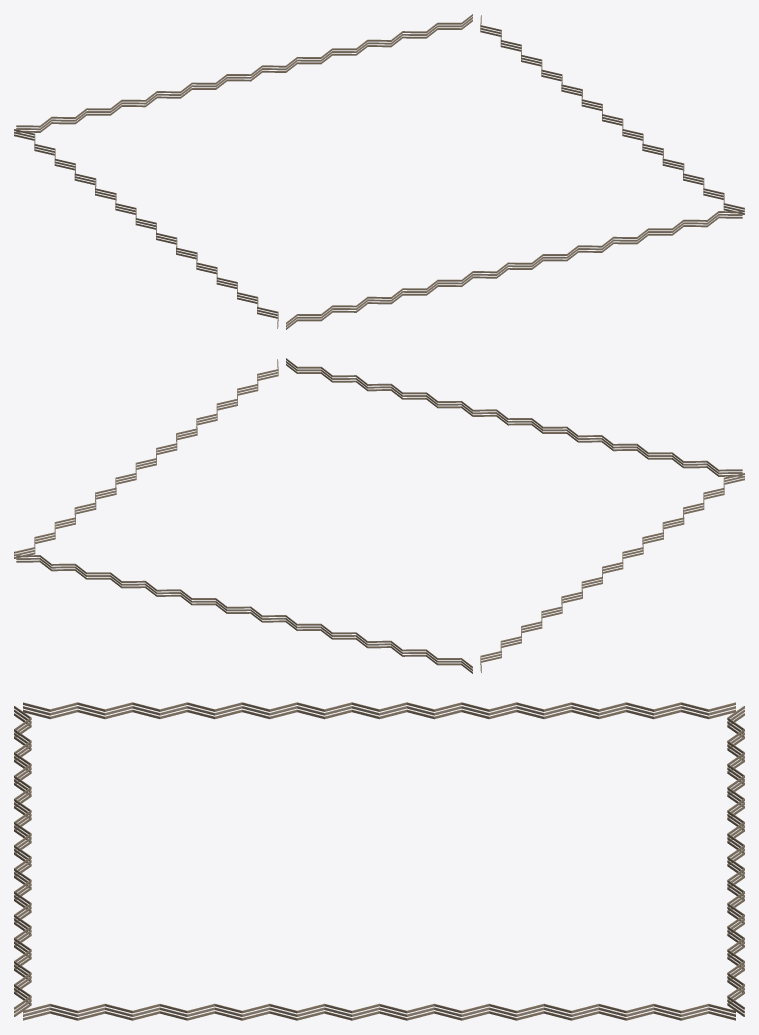
The model's file is fort_dearborn_garrison_garden__fence_1816.glb.
3 renders of one model, top to bottom at view 1: azimuth 30°, elevation 25°; view 2: azimuth 150°, elevation 25°; view 3: azimuth 270°, elevation 25°, orthographic. The views are drawn at different scales.
Parts seen in each view (by area): view 1: fort_dearborn_garrison_garden__fence_1816; view 2: fort_dearborn_garrison_garden__fence_1816; view 3: fort_dearborn_garrison_garden__fence_1816.
Part boxes in pixels (box(x1,y1,x2,y2)): fort_dearborn_garrison_garden__fence_1816: box(14, 14, 744, 329); fort_dearborn_garrison_garden__fence_1816: box(14, 358, 744, 673); fort_dearborn_garrison_garden__fence_1816: box(14, 702, 744, 1020).
Size of the model in its own units: 78.91 by 1.14 by 78.91.
